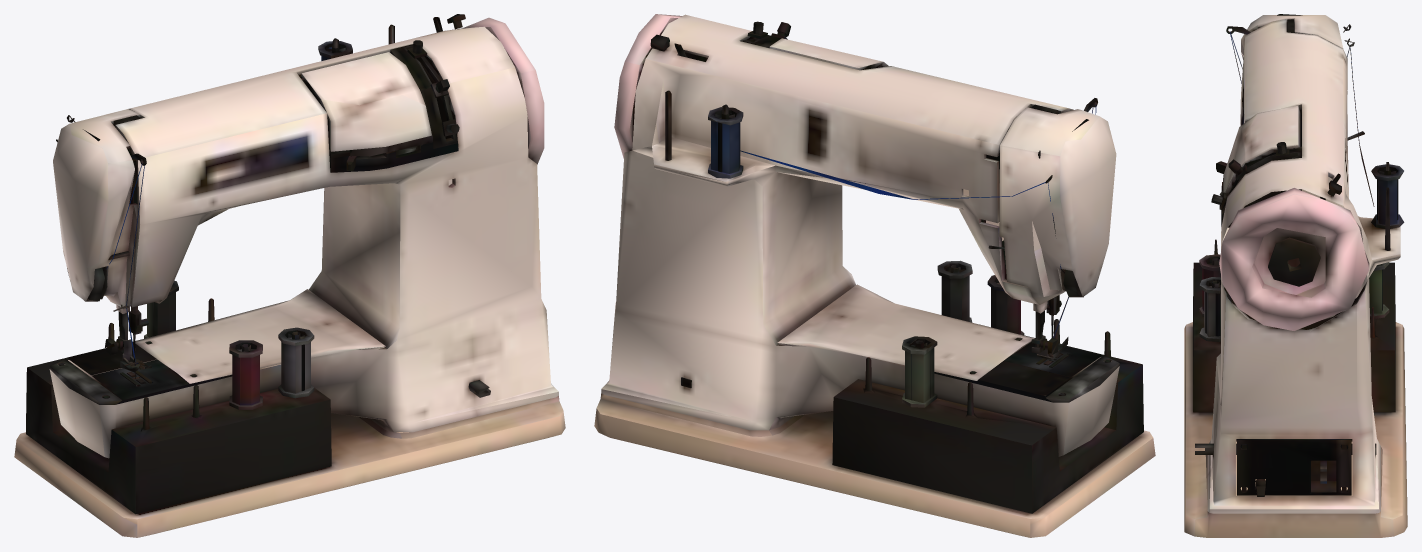
Rendered from sewing_machine.glb.
3 views of the same model, side by side, from view 1: azimuth 30°, elevation 25°; view 2: azimuth 150°, elevation 25°; view 3: azimuth 270°, elevation 25° (orthographic). The views are drawn at different scales.
Visible parts, largest first — view 1: Siyah_celik_1_Mat_0; view 2: Siyah_celik_1_Mat_0; view 3: Siyah_celik_1_Mat_0.
Boxes of the visible parts, x1=… form: Siyah_celik_1_Mat_0: x1=14, y1=14, x2=565, y2=537; Siyah_celik_1_Mat_0: x1=594, y1=14, x2=1155, y2=537; Siyah_celik_1_Mat_0: x1=1184, y1=14, x2=1407, y2=537.
Bounding box in the file's own units: 0.5467 × 0.4406 × 0.2537.
1 material, 1 textured.
